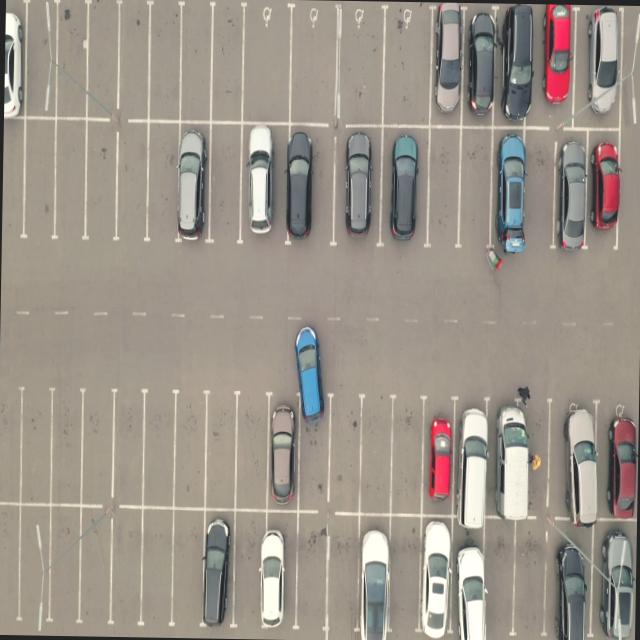car: (550, 397, 599, 521), (284, 128, 334, 248), (486, 393, 534, 518), (574, 7, 622, 126), (546, 521, 594, 640), (383, 124, 431, 242), (334, 129, 382, 246), (241, 123, 287, 245), (536, 3, 578, 124), (454, 395, 495, 517), (594, 523, 636, 640), (496, 5, 536, 126), (598, 404, 638, 524), (428, 7, 467, 126), (259, 511, 297, 631), (489, 128, 526, 251), (417, 516, 454, 639), (419, 396, 457, 514), (453, 520, 490, 640), (178, 126, 214, 246), (356, 514, 390, 638), (554, 130, 590, 247), (264, 391, 300, 506), (466, 9, 500, 127), (202, 510, 234, 630), (586, 131, 618, 241), (3, 0, 26, 117)
free: (240, 3, 294, 122), (378, 5, 431, 126), (290, 6, 342, 124), (336, 6, 386, 125), (40, 508, 84, 626), (17, 121, 57, 243), (178, 2, 218, 122), (208, 2, 248, 122), (145, 1, 185, 121), (51, 122, 90, 244), (325, 514, 364, 636), (49, 0, 90, 116), (140, 388, 180, 506), (75, 386, 115, 504), (512, 517, 552, 635), (458, 127, 496, 250), (115, 0, 154, 119), (172, 391, 212, 507), (388, 398, 428, 514), (46, 390, 85, 507), (81, 0, 120, 117), (110, 508, 148, 628), (14, 385, 53, 501), (136, 509, 174, 628), (80, 124, 118, 243), (114, 125, 152, 244), (207, 124, 245, 242), (74, 508, 112, 626), (12, 506, 50, 624), (234, 390, 272, 507), (112, 388, 150, 504), (143, 120, 180, 239), (388, 516, 424, 638), (355, 396, 393, 511), (290, 514, 327, 632), (230, 510, 266, 631), (326, 393, 364, 507), (171, 510, 207, 630), (424, 128, 460, 248), (18, 0, 55, 115), (481, 519, 516, 639), (202, 392, 238, 508), (294, 396, 330, 509), (525, 128, 558, 249), (1, 119, 26, 242), (0, 380, 23, 501), (0, 504, 20, 624)
